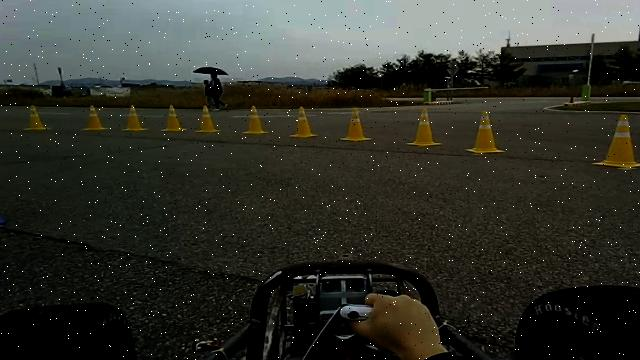yellow cone: (592, 114, 640, 168), (464, 110, 504, 154), (406, 108, 442, 147), (338, 107, 372, 141), (288, 106, 318, 138), (160, 103, 187, 132), (22, 104, 50, 131), (80, 104, 108, 131), (242, 105, 268, 134), (194, 104, 220, 133), (121, 104, 148, 131)
